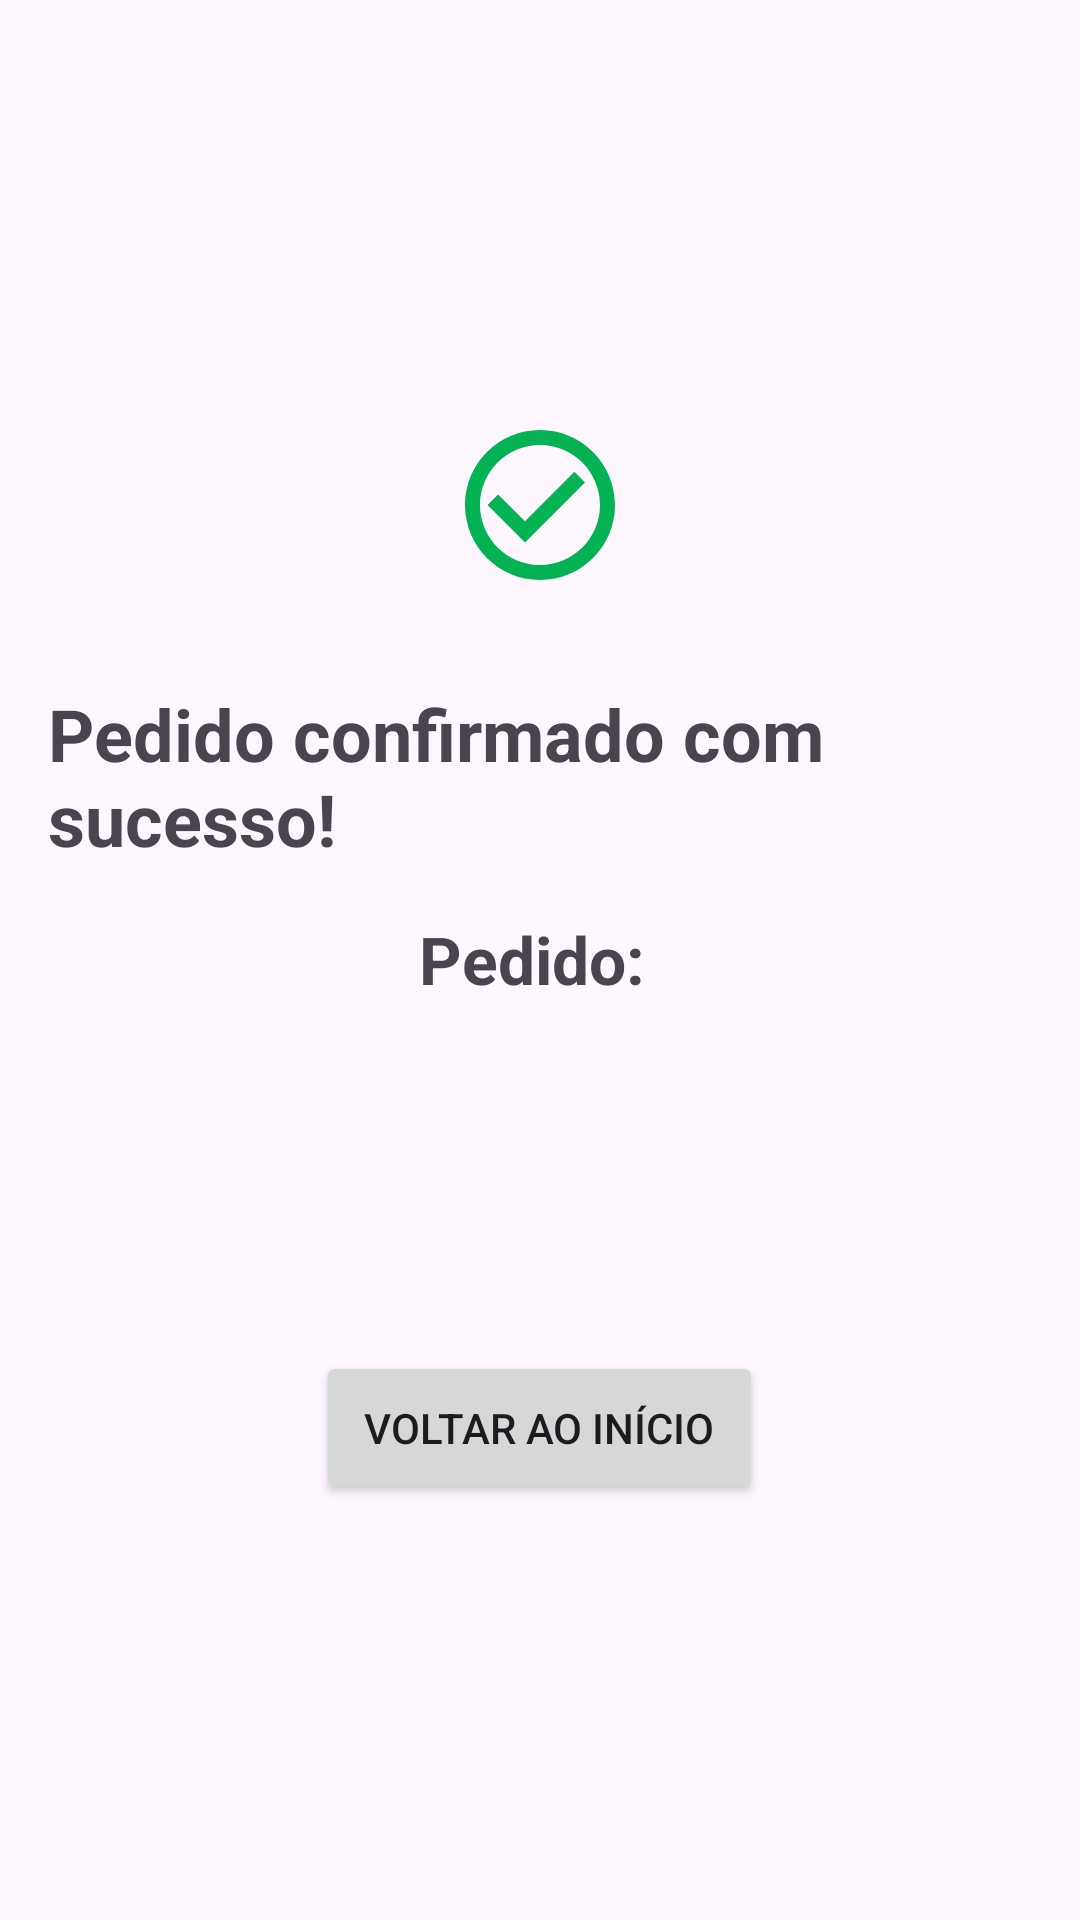

Where icons sit on this 1080px x 1920px app screen, as (x1, y1, x2, y2):
check circle: (465, 430, 615, 580)
